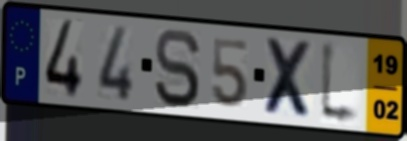4: (42, 16, 85, 101), (95, 22, 135, 103)
5: (209, 35, 250, 111)
L: (317, 37, 363, 130)
S: (152, 26, 204, 111)
X: (261, 34, 316, 122)
